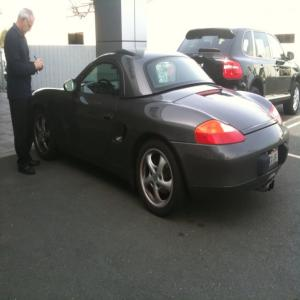Vehicle-registration-plate: (267, 149, 281, 168)
